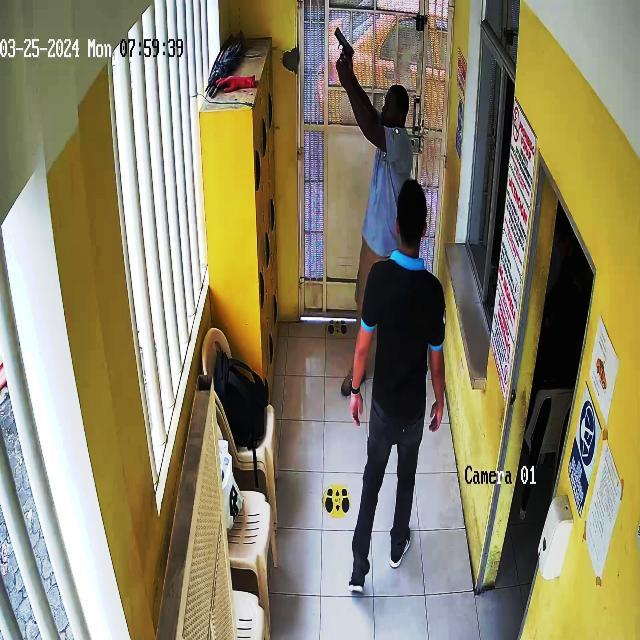Gun: (324, 23, 361, 77)
